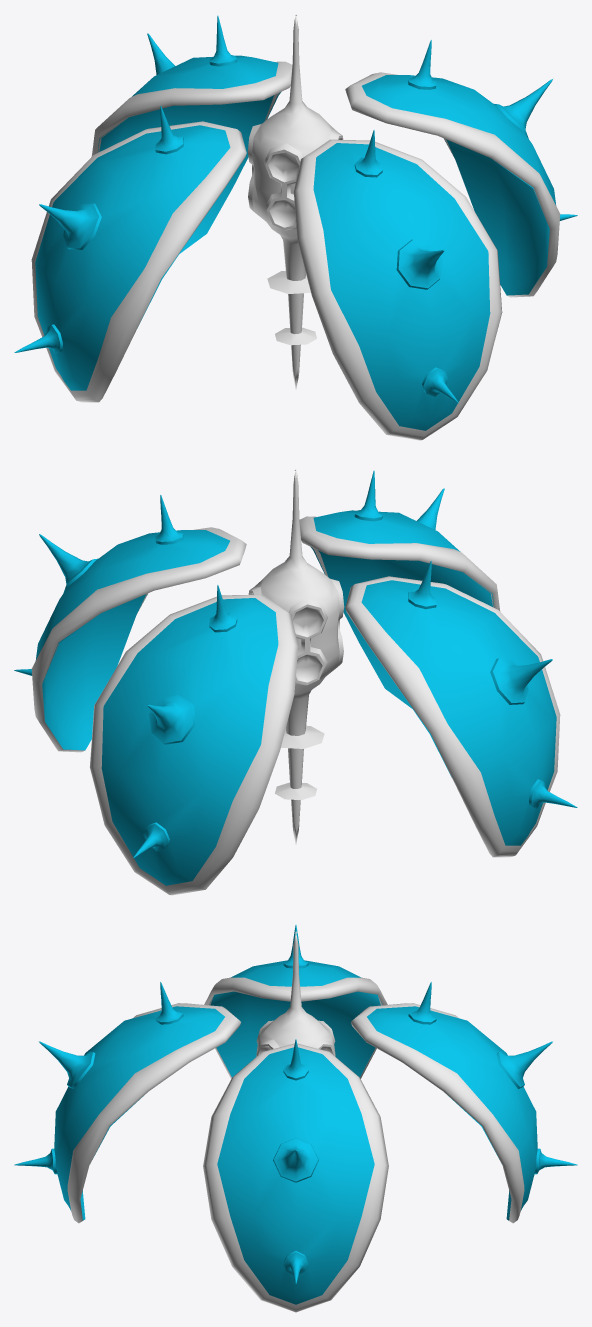
The model's file is spike.fbx.
3 views of the same model, one above another, from view 1: azimuth 30°, elevation 25°; view 2: azimuth 150°, elevation 25°; view 3: azimuth 270°, elevation 25° (orthographic). The views are drawn at different scales.
Parts seen in each view (by area): view 1: Spike ball 2, Spike ball 1; view 2: Spike ball 2, Spike ball 1; view 3: Spike ball 2, Spike ball 1.
Boxes of the visible parts, left/top/right/bottom form: Spike ball 2: left=14, top=15, right=577, bottom=440; Spike ball 1: left=247, top=14, right=343, bottom=389; Spike ball 2: left=14, top=470, right=577, bottom=895; Spike ball 1: left=248, top=469, right=344, bottom=844; Spike ball 2: left=14, top=925, right=577, bottom=1312; Spike ball 1: left=256, top=931, right=335, bottom=1056.
Bounding box in the file's own units: 4.1 × 2.61 × 4.1.
